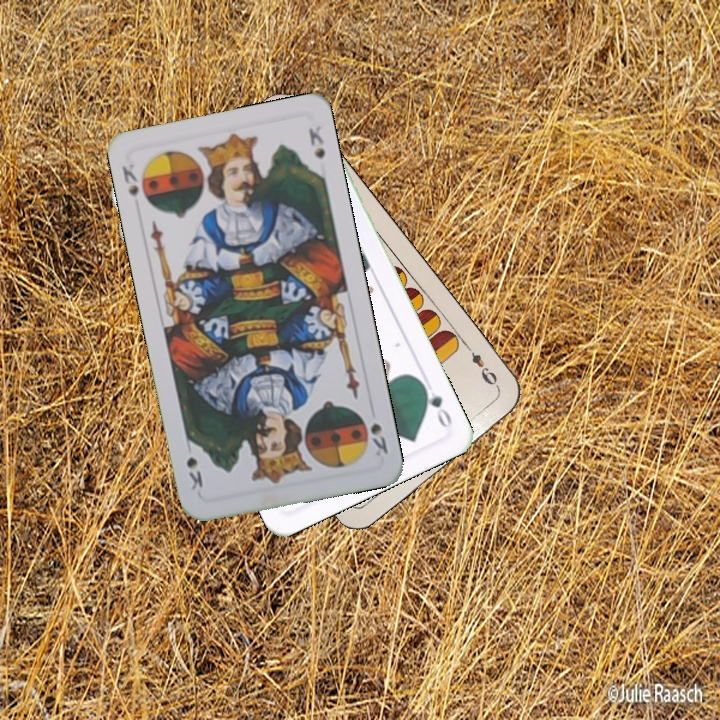E9: (462, 341, 502, 393)
GO: (417, 378, 455, 433)
SK: (118, 160, 152, 209), (366, 418, 391, 459)
